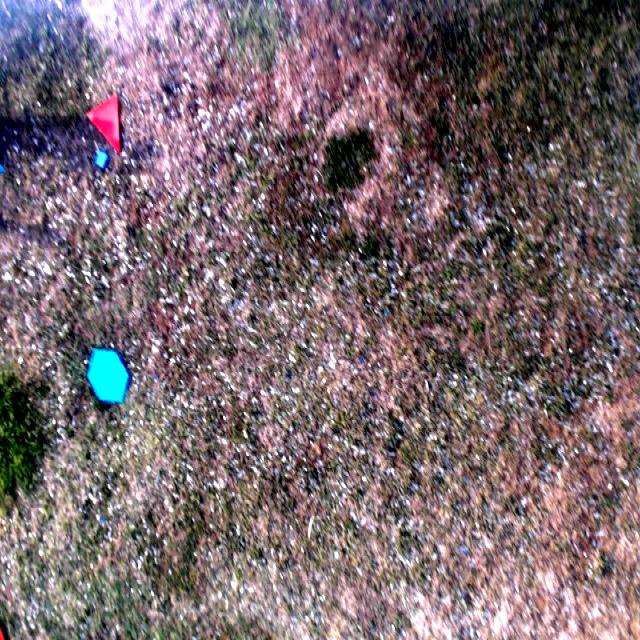blue_hexagon: (87, 347, 130, 405)
red_triangle: (88, 90, 120, 149)
